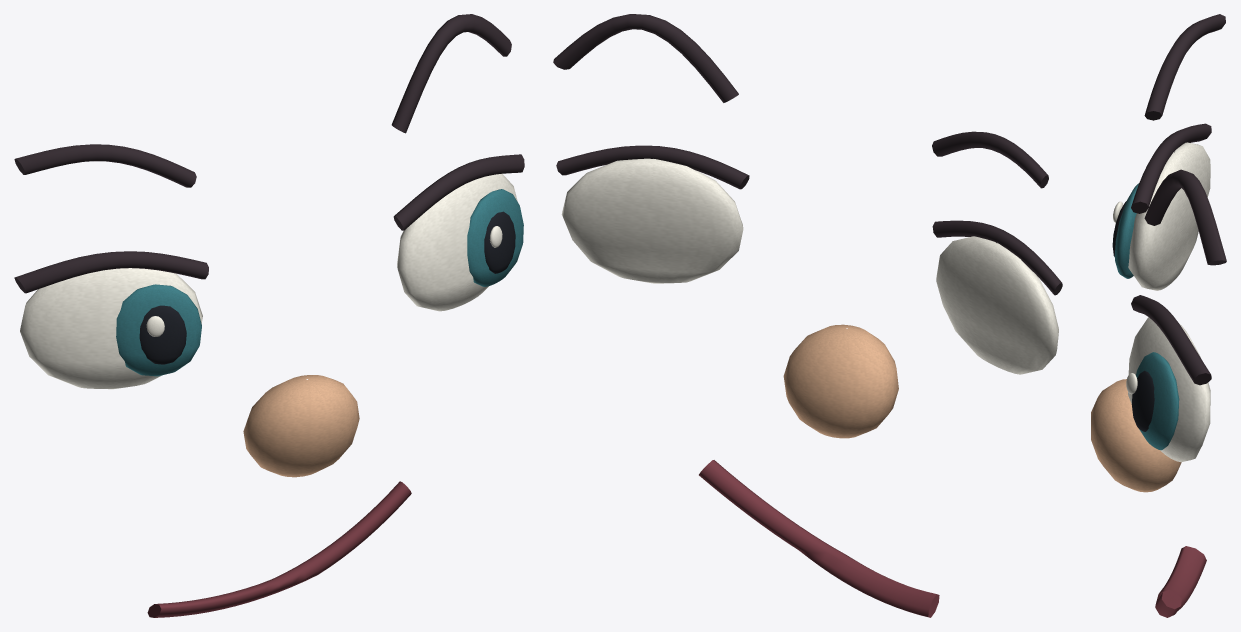
File: face_side_smirk.gltf
The picture shows the model from 3 angles, left to right: view 1: azimuth 30°, elevation 25°; view 2: azimuth 150°, elevation 25°; view 3: azimuth 270°, elevation 25°; orthographic projection.
Parts seen in each view (by area): view 1: Side-Eye Smirk; view 2: Side-Eye Smirk; view 3: Side-Eye Smirk.
Part boxes in pixels (box(x1,y1,x2,y2)): Side-Eye Smirk: box(14, 14, 524, 617); Side-Eye Smirk: box(553, 14, 1062, 617); Side-Eye Smirk: box(1091, 14, 1226, 617).
Bounding box in the file's own units: 0.2649 × 0.2669 × 0.061.
6 materials, 6 textured.
